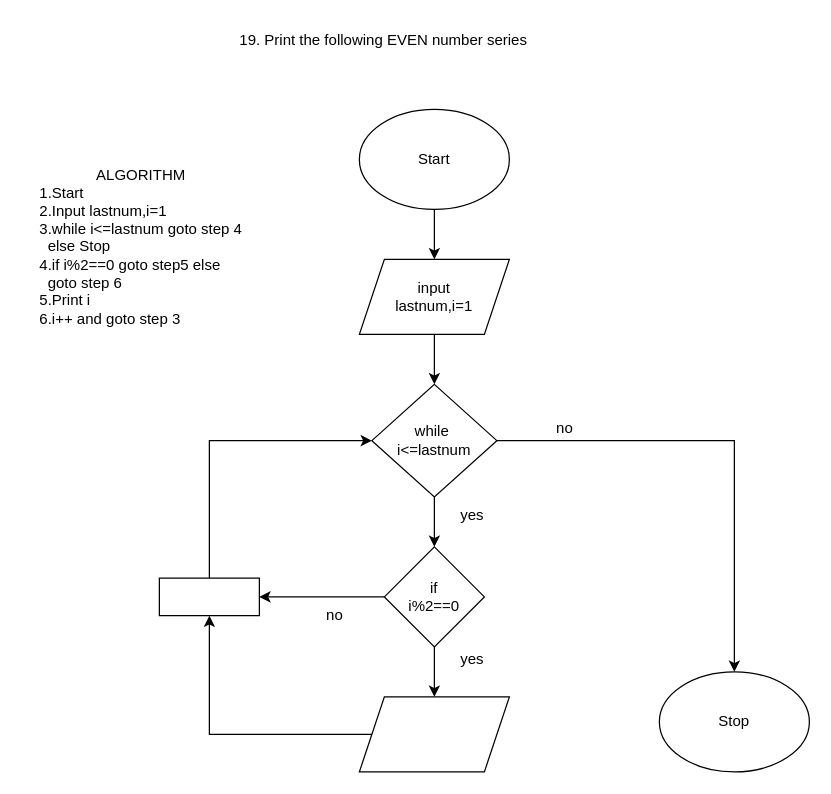
Image size: 831x794. Some labels were removed from this diagram. The shapes that lost their labels are listed below. From the top down, each one's box as (x1, y1, x2, y2) in pixels, then its label:
(158, 577, 259, 616): i++
(358, 696, 509, 772): Print i
